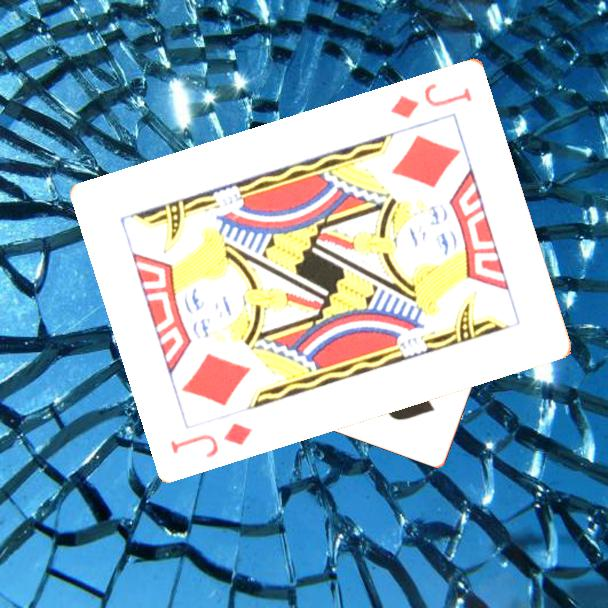d11: (387, 79, 475, 121), (167, 419, 256, 460)
